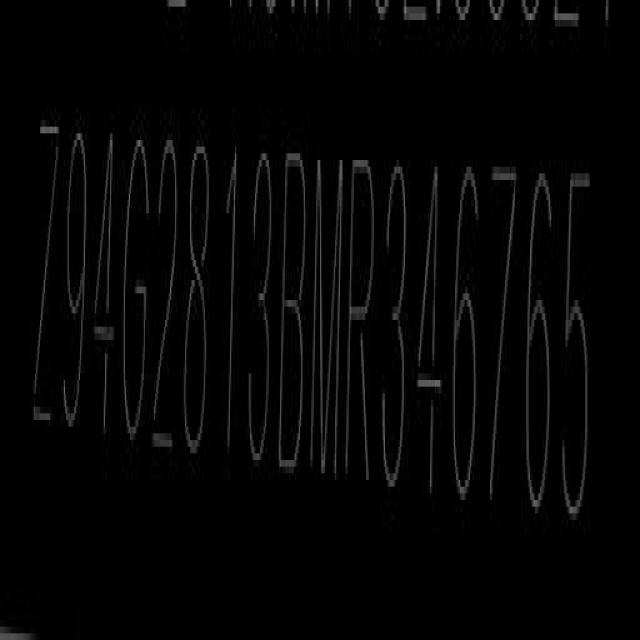1: (220, 124, 240, 476)
2: (151, 121, 179, 474)
3: (244, 133, 274, 479), (378, 156, 408, 498)
4: (413, 138, 445, 504), (92, 121, 116, 452)
5: (564, 160, 594, 521)
6: (521, 168, 554, 516), (449, 148, 480, 511)
7: (485, 153, 519, 521)
8: (182, 133, 211, 457)
9: (61, 118, 90, 447)
B: (278, 140, 310, 477)
G: (119, 126, 152, 462)
M: (307, 146, 345, 484)
R: (342, 146, 374, 491)
Z: (34, 106, 60, 447)
